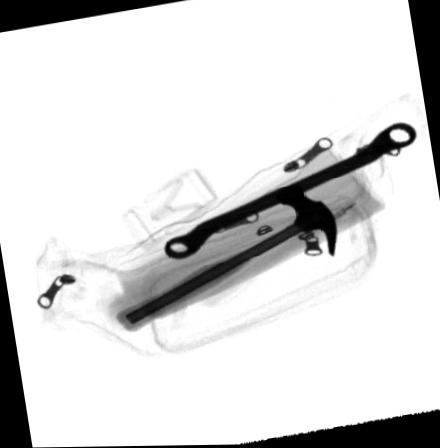Hammer: (113, 181, 339, 334)
Wrench: (164, 120, 416, 262)
